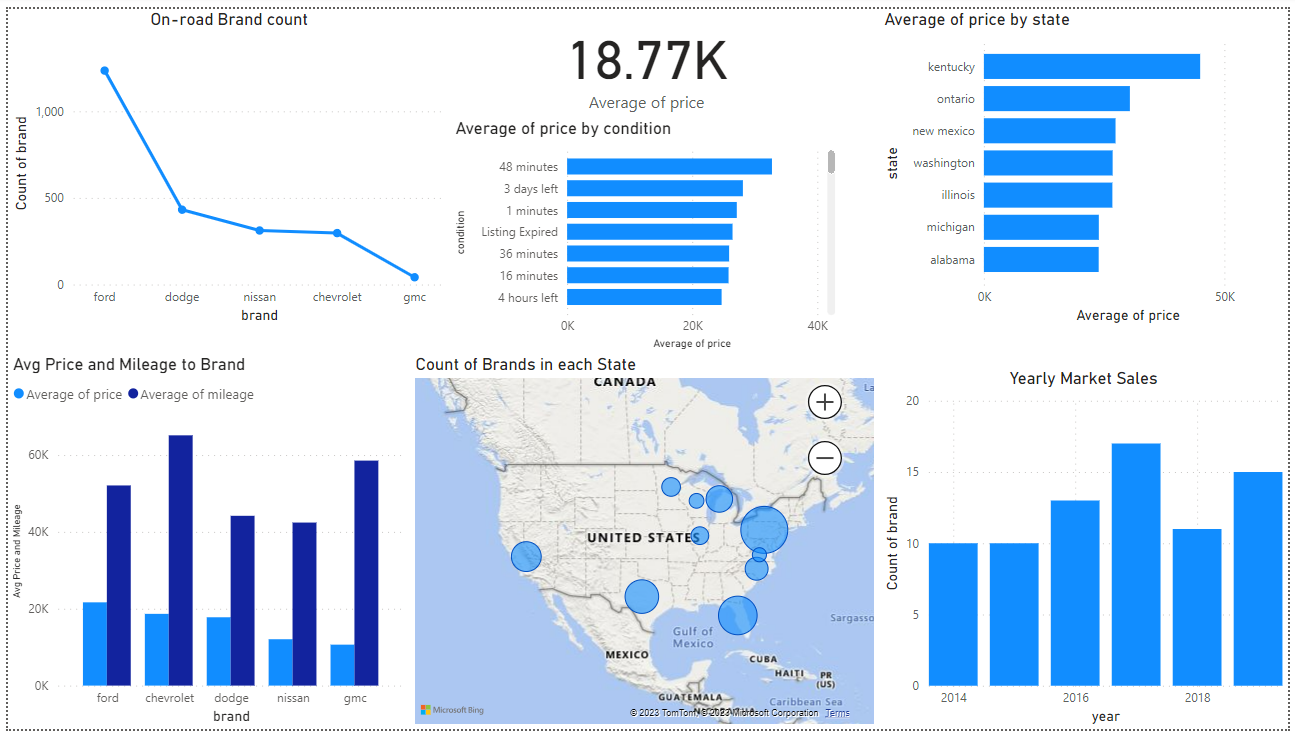

The dashboard page shown, as its layout file describes it:
{"tool":"powerbi","page":{"name":"Page 1","canvas":[1280,720],"ordinal":0},"visuals":[{"type":"lineChart","title":"On-road Brand count","fields":{"Y":["CountNonNull(USA_cars_datasets.brand)"],"Category":["USA_cars_datasets.brand"]},"box":[0,0,442.5,319],"z":0},{"type":"donutChart","title":"Yearly Market Capture","fields":{"Category":["USA_cars_datasets.year"],"Y":["Count(USA_cars_datasets.brand)"]},"box":[871.6,358.2,408.3,361.8],"z":1000},{"type":"map","title":"Count of Brands in each State","fields":{"Category":["USA_cars_datasets.state"],"Size":["CountNonNull(USA_cars_datasets.brand)"]},"box":[402.2,344.7,469.4,375.3],"z":2000},{"type":"clusteredColumnChart","title":"Avg Price and Mileage to Brand","fields":{"Category":["USA_cars_datasets.brand"],"Y":["Avg(USA_cars_datasets.price)","Avg(USA_cars_datasets.mileage)"]},"box":[0,344.7,402.2,375.3],"z":3000},{"type":"card","fields":{"Values":["Avg(USA_cars_datasets.price)"]},"box":[542.9,0,189.2,144],"z":3001},{"type":"clusteredBarChart","fields":{"Category":["USA_cars_datasets.condition"],"Y":["Sum(USA_cars_datasets.price)"]},"box":[442.5,145.5,389.9,199.3],"z":3002},{"type":"clusteredBarChart","fields":{"Category":["USA_cars_datasets.state"],"Y":["Avg(USA_cars_datasets.price)"]},"box":[871.6,0,408.3,319],"z":3003}]}

Visuals, with their boxes in screenshot pixels (x1, y1, x2, y2), scaled from the page's 1280x720 canvas onto the 1295x735 screenshot:
"On-road Brand count" lineChart: bbox=(0, 0, 448, 326)
"Yearly Market Capture" donutChart: bbox=(882, 366, 1294, 734)
"Count of Brands in each State" map: bbox=(407, 352, 882, 734)
"Avg Price and Mileage to Brand" clusteredColumnChart: bbox=(0, 352, 407, 734)
card - Avg(USA_cars_datasets.price): bbox=(549, 0, 741, 147)
clusteredBarChart - USA_cars_datasets.condition x Sum(USA_cars_datasets.price): bbox=(448, 149, 842, 352)
clusteredBarChart - USA_cars_datasets.state x Avg(USA_cars_datasets.price): bbox=(882, 0, 1294, 326)
